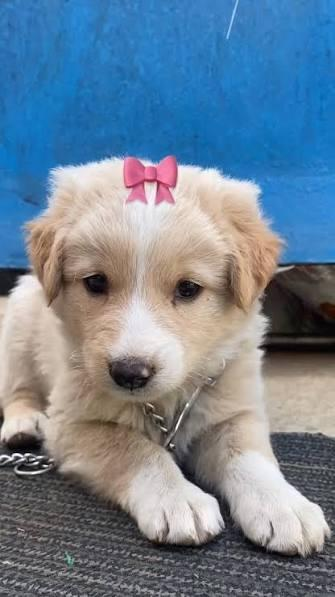puppy-dog: (0, 156, 331, 558)
